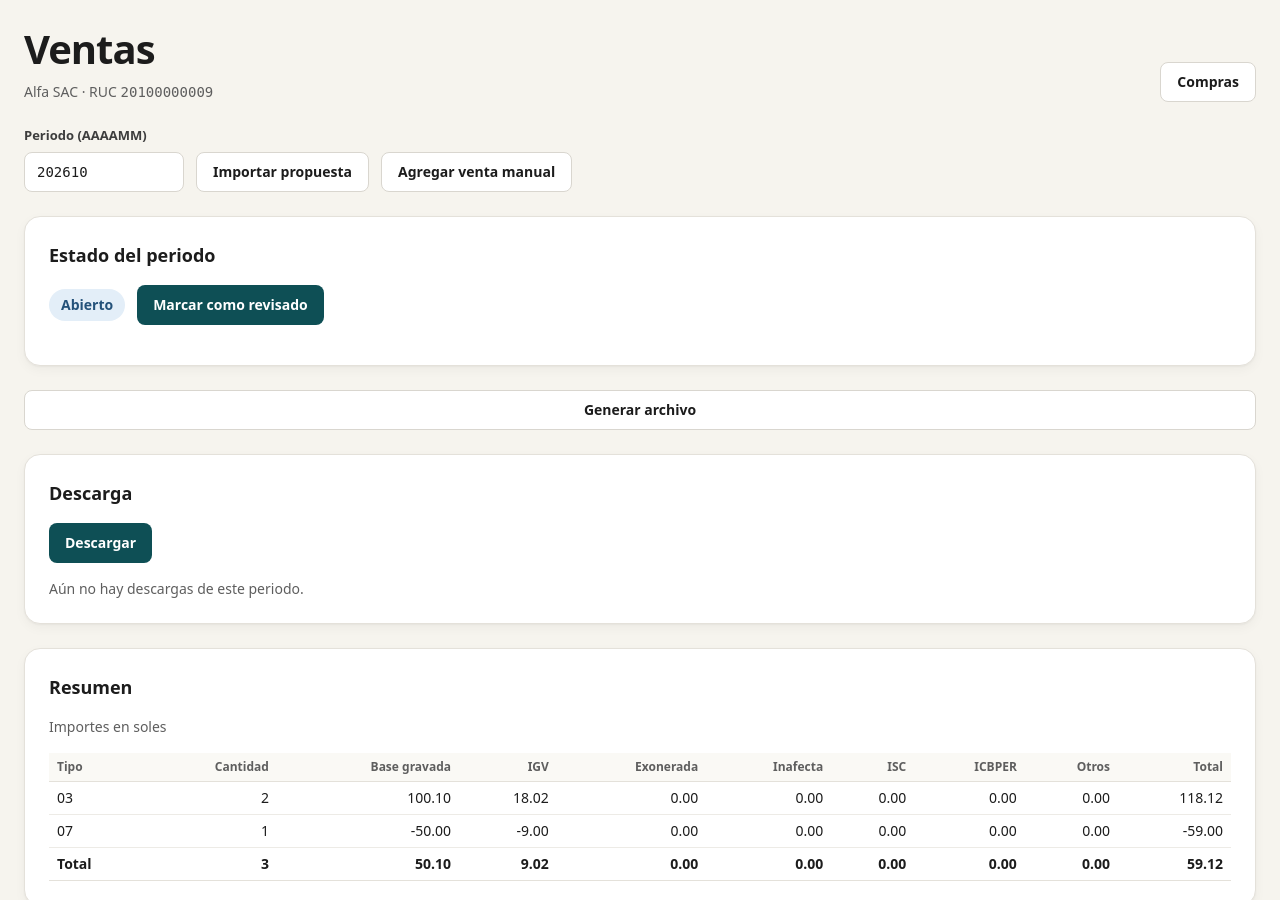
Test: Ventas · avisos únicos (spec 018 T1, CA-10) › error: el 409 no_excluible del diálogo sale en un solo aviso
Click the button "Generar archivo" at (640, 410), box [24,390,1256,430]
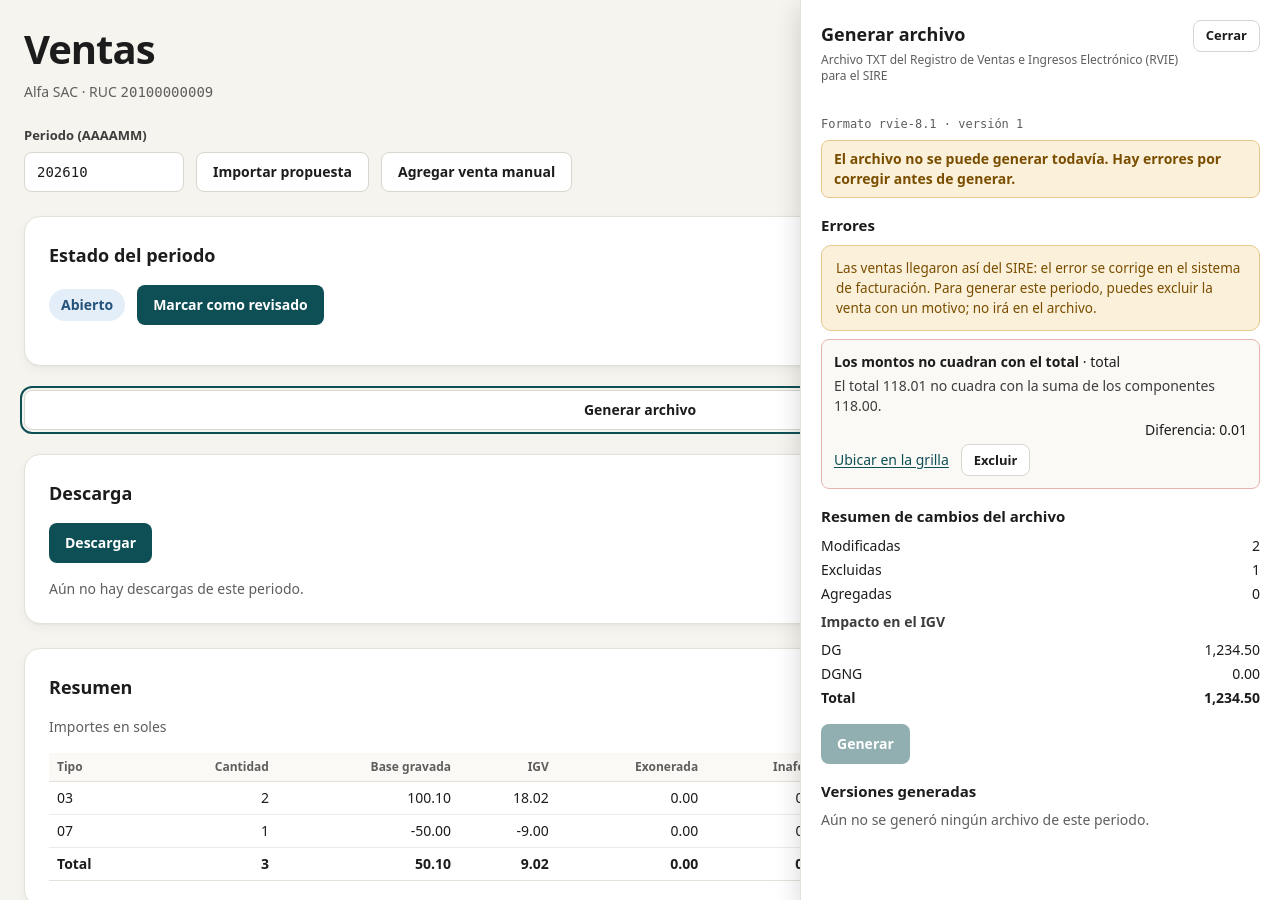
Click the button "Excluir" at (996, 460), box [961,444,1030,476]
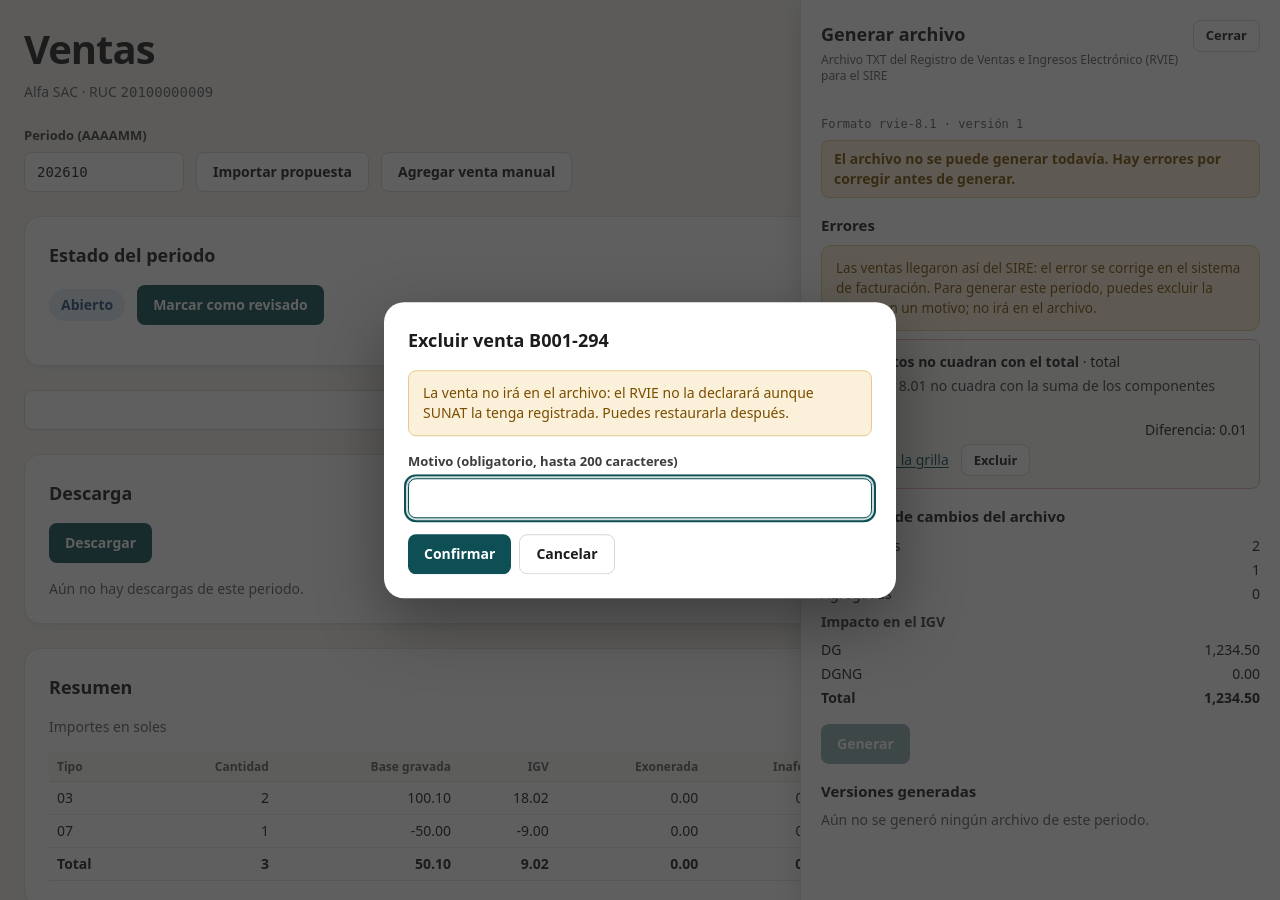
Type "Factura anulada en el sistema de facturación" into the field labelled "Motivo (obligatorio, hasta 200 caracteres)" at (640, 498), box [408,478,872,518]
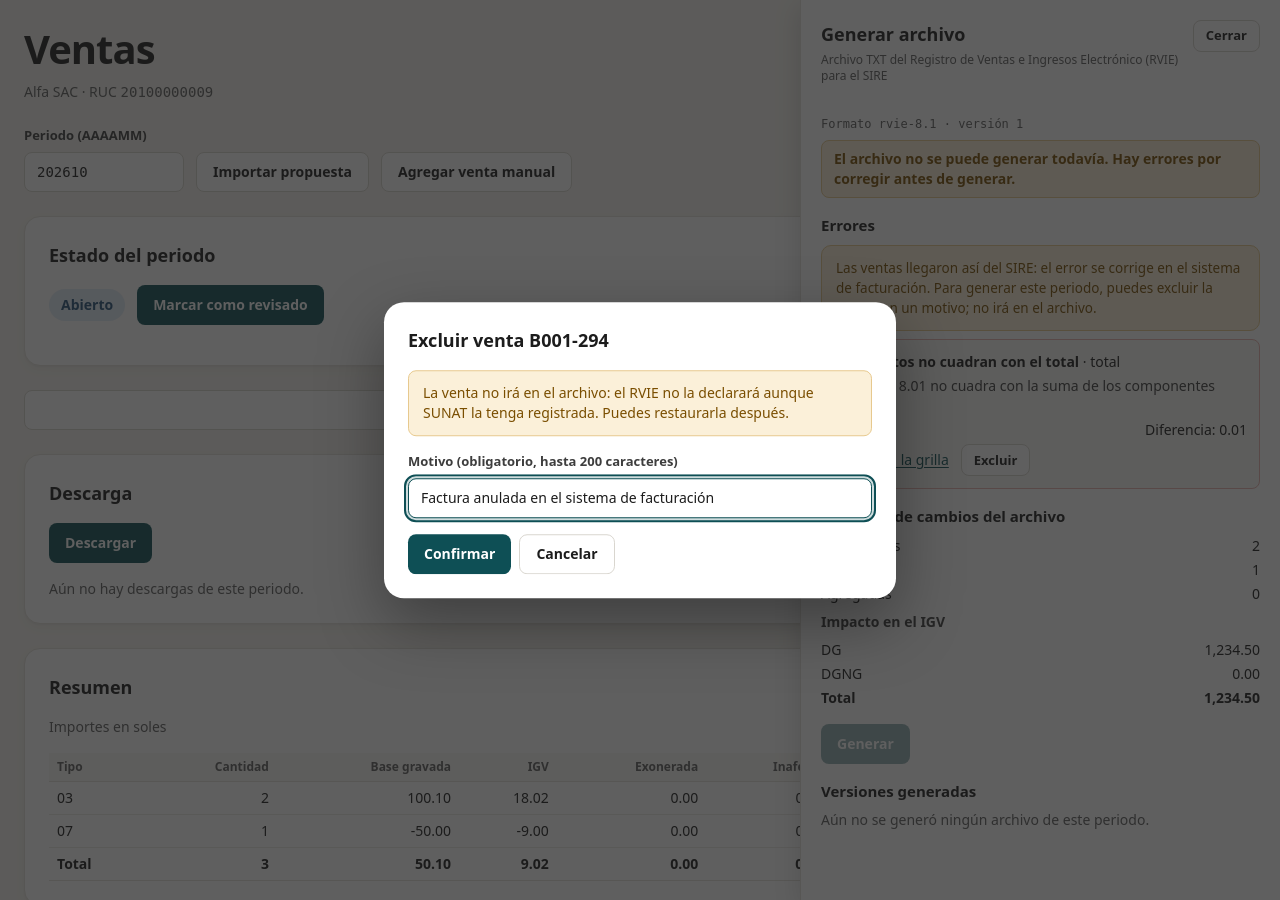
Click the button "Confirmar" at (460, 554), box [408,534,511,574]
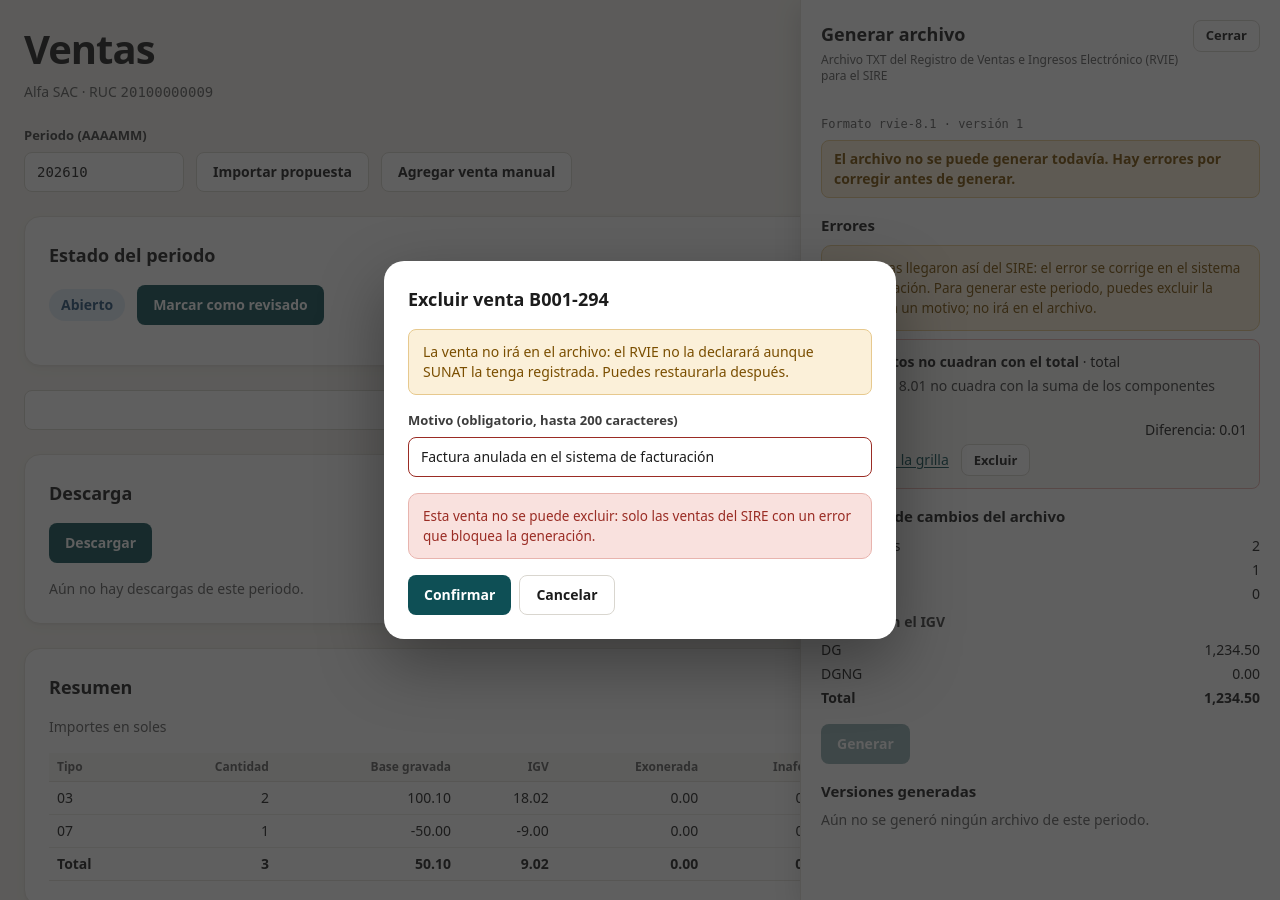
Check: the text "Esta venta no se puede excluir: solo las ventas del SIRE con un error que bloquea la generación." is shown, box [423,506,851,545]
